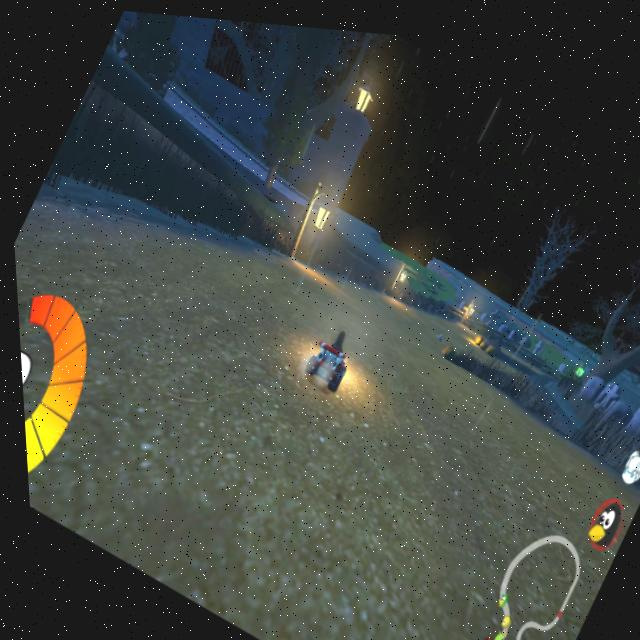player_kart: (290, 314, 360, 401)
track: (231, 332, 561, 640), (294, 249, 474, 388)
